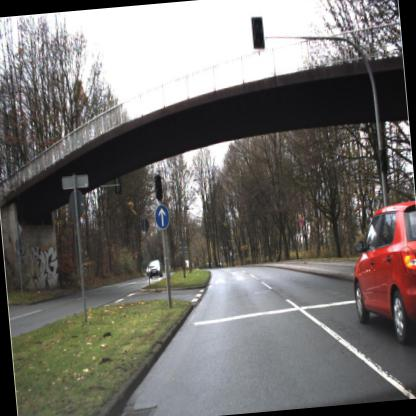mandatory: (152, 204, 171, 230)
